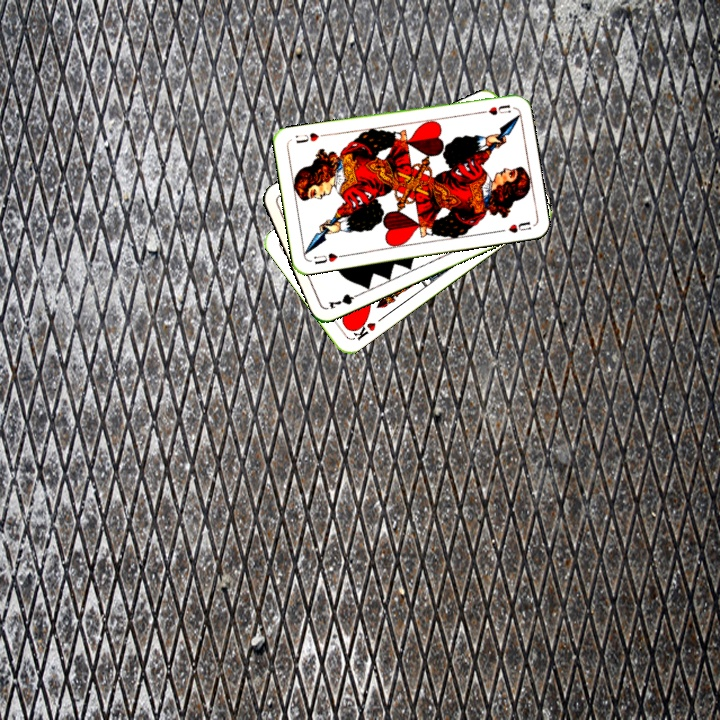G7: (324, 288, 364, 311)
HK: (347, 315, 378, 343)
HU: (310, 249, 347, 267), (474, 101, 513, 118)
